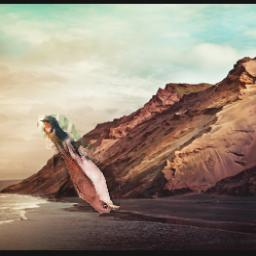Cuckoo: (54, 141, 121, 213)
Swallow: (38, 115, 95, 165)
